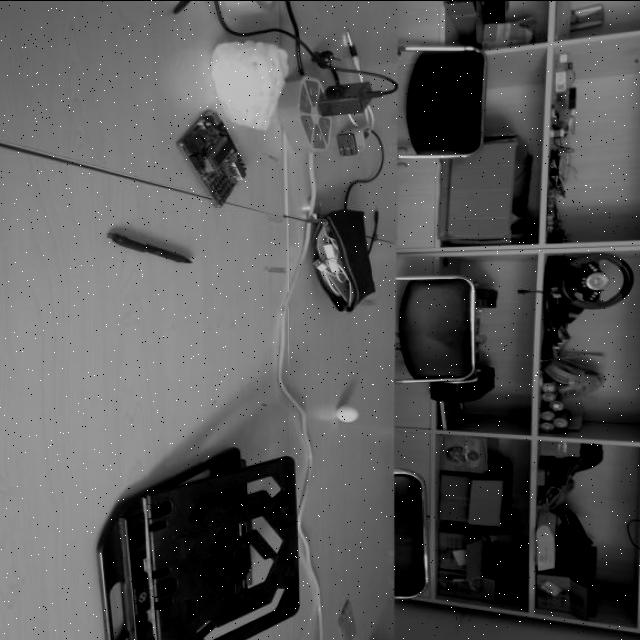ping-pong-ball: (336, 404, 358, 420)
